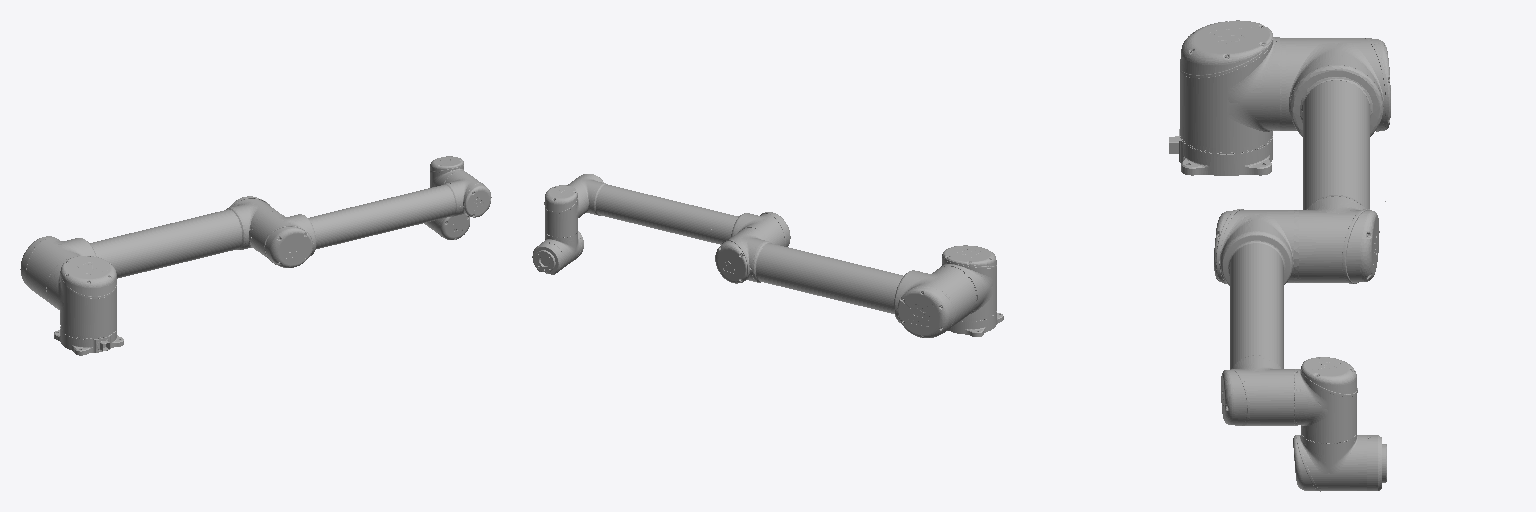
URDF robot description (ur10):
<?xml version="1.0" ?>
<!-- =================================================================================== -->
<!-- |    This document was autogenerated by xacro from /xacro/ur_description/urdf/ur10_robot.urdf.xacro | -->
<!-- |    EDITING THIS FILE BY HAND IS NOT RECOMMENDED                                 | -->
<!-- =================================================================================== -->
<robot name="ur10" xmlns:xacro="http://wiki.ros.org/xacro">
  <gazebo>
    <plugin filename="libgazebo_ros_control.so" name="ros_control">
      <!--robotNamespace>/</robotNamespace-->
      <!--robotSimType>gazebo_ros_control/DefaultRobotHWSim</robotSimType-->
    </plugin>
    <!--
    <plugin name="gazebo_ros_power_monitor_controller" filename="libgazebo_ros_power_monitor.so">
      <alwaysOn>true</alwaysOn>
      <updateRate>1.0</updateRate>
      <timeout>5</timeout>
      <powerStateTopic>power_state</powerStateTopic>
      <powerStateRate>10.0</powerStateRate>
      <fullChargeCapacity>87.78</fullChargeCapacity>     
      <dischargeRate>-474</dischargeRate>
      <chargeRate>525</chargeRate>
      <dischargeVoltage>15.52</dischargeVoltage>
      <chargeVoltage>16.41</chargeVoltage>
    </plugin>
-->
  </gazebo>
  <!--
  Author: [author]
  Contributers: [author], [author], [author]
-->
  <!-- measured from model -->
  <link name="base_link">
    <visual>
      <geometry>
        <mesh filename="package://ur_description/meshes/ur10/visual/base.obj"/>
      </geometry>
      <material name="LightGrey">
        <color rgba="0.7 0.7 0.7 1.0"/>
      </material>
    </visual>
    <collision>
      <geometry>
        <mesh filename="package://ur_description/meshes/ur10/collision/base.stl"/>
      </geometry>
    </collision>
    <inertial>
      <mass value="4.0"/>
      <origin rpy="0 0 0" xyz="0.0 0.0 0.0"/>
      <inertia ixx="0.0061063308908" ixy="0.0" ixz="0.0" iyy="0.0061063308908" iyz="0.0" izz="0.01125"/>
    </inertial>
  </link>
  <joint name="shoulder_pan_joint" type="revolute">
    <parent link="base_link"/>
    <child link="shoulder_link"/>
    <origin rpy="0.0 0.0 0.0" xyz="0.0 0.0 0.1273"/>
    <axis xyz="0 0 1"/>
    <limit effort="330.0" lower="-6.28318530718" upper="6.28318530718" velocity="2.16"/>
    <dynamics damping="0.0" friction="0.0"/>
  </joint>
  <link name="shoulder_link">
    <visual>
      <geometry>
        <mesh filename="package://ur_description/meshes/ur10/visual/shoulder.obj"/>
      </geometry>
      <material name="LightGrey">
        <color rgba="0.7 0.7 0.7 1.0"/>
      </material>
    </visual>
    <collision>
      <geometry>
        <mesh filename="package://ur_description/meshes/ur10/collision/shoulder.stl"/>
      </geometry>
    </collision>
    <inertial>
      <mass value="7.778"/>
      <origin rpy="0 0 0" xyz="0.0 0.0 0.0"/>
      <inertia ixx="0.0314743125769" ixy="0.0" ixz="0.0" iyy="0.0314743125769" iyz="0.0" izz="0.021875625"/>
    </inertial>
  </link>
  <joint name="shoulder_lift_joint" type="revolute">
    <parent link="shoulder_link"/>
    <child link="upper_arm_link"/>
    <origin rpy="0.0 1.57079632679 0.0" xyz="0.0 0.220941 0.0"/>
    <axis xyz="0 1 0"/>
    <limit effort="330.0" lower="-6.28318530718" upper="6.28318530718" velocity="2.16"/>
    <dynamics damping="0.0" friction="0.0"/>
  </joint>
  <link name="upper_arm_link">
    <visual>
      <geometry>
        <mesh filename="package://ur_description/meshes/ur10/visual/upperarm.obj"/>
      </geometry>
      <material name="LightGrey">
        <color rgba="0.7 0.7 0.7 1.0"/>
      </material>
    </visual>
    <collision>
      <geometry>
        <mesh filename="package://ur_description/meshes/ur10/collision/upperarm.stl"/>
      </geometry>
    </collision>
    <inertial>
      <mass value="12.93"/>
      <origin rpy="0 0 0" xyz="0.0 -0.045 0.306"/>
      <inertia ixx="0.421753803798" ixy="0.0" ixz="0.0" iyy="0.421753803798" iyz="0.0" izz="0.036365625"/>
    </inertial>
  </link>
  <joint name="elbow_joint" type="revolute">
    <parent link="upper_arm_link"/>
    <child link="forearm_link"/>
    <origin rpy="0.0 0.0 0.0" xyz="0.0 -0.1719 0.612"/>
    <axis xyz="0 1 0"/>
    <limit effort="150.0" lower="-3.14159265359" upper="3.14159265359" velocity="3.15"/>
    <dynamics damping="0.0" friction="0.0"/>
  </joint>
  <link name="forearm_link">
    <visual>
      <geometry>
        <mesh filename="package://ur_description/meshes/ur10/visual/forearm.obj"/>
      </geometry>
      <material name="LightGrey">
        <color rgba="0.7 0.7 0.7 1.0"/>
      </material>
    </visual>
    <collision>
      <geometry>
        <mesh filename="package://ur_description/meshes/ur10/collision/forearm.stl"/>
      </geometry>
    </collision>
    <inertial>
      <mass value="3.87"/>
      <origin rpy="0 0 0" xyz="0.0 0.0 0.28615"/>
      <inertia ixx="0.111069694097" ixy="0.0" ixz="0.0" iyy="0.111069694097" iyz="0.0" izz="0.010884375"/>
    </inertial>
  </link>
  <joint name="wrist_1_joint" type="revolute">
    <parent link="forearm_link"/>
    <child link="wrist_1_link"/>
    <origin rpy="0.0 1.57079632679 0.0" xyz="0.0 0.0 0.5723"/>
    <axis xyz="0 1 0"/>
    <limit effort="54.0" lower="-6.28318530718" upper="6.28318530718" velocity="3.2"/>
    <dynamics damping="0.0" friction="0.0"/>
  </joint>
  <link name="wrist_1_link">
    <visual>
      <geometry>
        <mesh filename="package://ur_description/meshes/ur10/visual/wrist1.obj"/>
      </geometry>
      <material name="LightGrey">
        <color rgba="0.7 0.7 0.7 1.0"/>
      </material>
    </visual>
    <collision>
      <geometry>
        <mesh filename="package://ur_description/meshes/ur10/collision/wrist1.stl"/>
      </geometry>
    </collision>
    <inertial>
      <mass value="1.96"/>
      <origin rpy="0 0 0" xyz="0.0 0.1149 0.0"/>
      <inertia ixx="0.0051082479567" ixy="0.0" ixz="0.0" iyy="0.0051082479567" iyz="0.0" izz="0.0055125"/>
    </inertial>
  </link>
  <joint name="wrist_2_joint" type="revolute">
    <parent link="wrist_1_link"/>
    <child link="wrist_2_link"/>
    <origin rpy="0.0 0.0 0.0" xyz="0.0 0.1149 0.0"/>
    <axis xyz="0 0 1"/>
    <limit effort="54.0" lower="-6.28318530718" upper="6.28318530718" velocity="3.2"/>
    <dynamics damping="0.0" friction="0.0"/>
  </joint>
  <link name="wrist_2_link">
    <visual>
      <geometry>
        <mesh filename="package://ur_description/meshes/ur10/visual/wrist2.obj"/>
      </geometry>
      <material name="LightGrey">
        <color rgba="0.7 0.7 0.7 1.0"/>
      </material>
    </visual>
    <collision>
      <geometry>
        <mesh filename="package://ur_description/meshes/ur10/collision/wrist2.stl"/>
      </geometry>
    </collision>
    <inertial>
      <mass value="1.96"/>
      <origin rpy="0 0 0" xyz="0.0 0.0 0.1157"/>
      <inertia ixx="0.0051082479567" ixy="0.0" ixz="0.0" iyy="0.0051082479567" iyz="0.0" izz="0.0055125"/>
    </inertial>
  </link>
  <joint name="wrist_3_joint" type="revolute">
    <parent link="wrist_2_link"/>
    <child link="wrist_3_link"/>
    <origin rpy="0.0 0.0 0.0" xyz="0.0 0.0 0.1157"/>
    <axis xyz="0 1 0"/>
    <limit effort="54.0" lower="-6.28318530718" upper="6.28318530718" velocity="3.2"/>
    <dynamics damping="0.0" friction="0.0"/>
  </joint>
  <link name="wrist_3_link">
    <visual>
      <geometry>
        <mesh filename="package://ur_description/meshes/ur10/visual/wrist3.obj"/>
      </geometry>
      <material name="LightGrey">
        <color rgba="0.7 0.7 0.7 1.0"/>
      </material>
    </visual>
    <collision>
      <geometry>
        <mesh filename="package://ur_description/meshes/ur10/collision/wrist3.stl"/>
      </geometry>
    </collision>
    <inertial>
      <mass value="0.202"/>
      <origin rpy="1.57079632679 0 0" xyz="0.0 0.07695 0.0"/>
      <inertia ixx="0.000117921661165" ixy="0.0" ixz="0.0" iyy="0.000117921661165" iyz="0.0" izz="0.000204525"/>
    </inertial>
  </link>
  <joint name="ee_fixed_joint" type="fixed">
    <parent link="wrist_3_link"/>
    <child link="ee_link"/>
    <origin rpy="0.0 0.0 1.57079632679" xyz="0.0 0.0922 0.0"/>
  </joint>
  <link name="ee_link">
    <collision>
      <geometry>
        <box size="0.01 0.01 0.01"/>
      </geometry>
      <origin rpy="0 0 0" xyz="-0.01 0 0"/>
    </collision>
  </link>
  <transmission name="shoulder_pan_trans">
    <type>transmission_interface/SimpleTransmission</type>
    <joint name="shoulder_pan_joint">
      <hardwareInterface>hardware_interface/PositionJointInterface</hardwareInterface>
    </joint>
    <actuator name="shoulder_pan_motor">
      <mechanicalReduction>1</mechanicalReduction>
    </actuator>
  </transmission>
  <transmission name="shoulder_lift_trans">
    <type>transmission_interface/SimpleTransmission</type>
    <joint name="shoulder_lift_joint">
      <hardwareInterface>hardware_interface/PositionJointInterface</hardwareInterface>
    </joint>
    <actuator name="shoulder_lift_motor">
      <mechanicalReduction>1</mechanicalReduction>
    </actuator>
  </transmission>
  <transmission name="elbow_trans">
    <type>transmission_interface/SimpleTransmission</type>
    <joint name="elbow_joint">
      <hardwareInterface>hardware_interface/PositionJointInterface</hardwareInterface>
    </joint>
    <actuator name="elbow_motor">
      <mechanicalReduction>1</mechanicalReduction>
    </actuator>
  </transmission>
  <transmission name="wrist_1_trans">
    <type>transmission_interface/SimpleTransmission</type>
    <joint name="wrist_1_joint">
      <hardwareInterface>hardware_interface/PositionJointInterface</hardwareInterface>
    </joint>
    <actuator name="wrist_1_motor">
      <mechanicalReduction>1</mechanicalReduction>
    </actuator>
  </transmission>
  <transmission name="wrist_2_trans">
    <type>transmission_interface/SimpleTransmission</type>
    <joint name="wrist_2_joint">
      <hardwareInterface>hardware_interface/PositionJointInterface</hardwareInterface>
    </joint>
    <actuator name="wrist_2_motor">
      <mechanicalReduction>1</mechanicalReduction>
    </actuator>
  </transmission>
  <transmission name="wrist_3_trans">
    <type>transmission_interface/SimpleTransmission</type>
    <joint name="wrist_3_joint">
      <hardwareInterface>hardware_interface/PositionJointInterface</hardwareInterface>
    </joint>
    <actuator name="wrist_3_motor">
      <mechanicalReduction>1</mechanicalReduction>
    </actuator>
  </transmission>
  <gazebo reference="shoulder_link">
    <selfCollide>true</selfCollide>
  </gazebo>
  <gazebo reference="upper_arm_link">
    <selfCollide>true</selfCollide>
  </gazebo>
  <gazebo reference="forearm_link">
    <selfCollide>true</selfCollide>
  </gazebo>
  <gazebo reference="wrist_1_link">
    <selfCollide>true</selfCollide>
  </gazebo>
  <gazebo reference="wrist_3_link">
    <selfCollide>true</selfCollide>
  </gazebo>
  <gazebo reference="wrist_2_link">
    <selfCollide>true</selfCollide>
  </gazebo>
  <gazebo reference="ee_link">
    <selfCollide>true</selfCollide>
  </gazebo>
  <!-- ROS base_link to UR 'Base' Coordinates transform -->
  <link name="base"/>
  <joint name="base_link-base_fixed_joint" type="fixed">
    <!-- NOTE: this rotation is only needed as long as base_link itself is
                 not corrected wrt the real robot (ie: rotated over 180
                 degrees)
      -->
    <origin rpy="0 0 -3.14159265359" xyz="0 0 0"/>
    <parent link="base_link"/>
    <child link="base"/>
  </joint>
  <!-- Frame coincident with all-zeros TCP on UR controller -->
  <link name="tool0"/>
  <joint name="wrist_3_link-tool0_fixed_joint" type="fixed">
    <origin rpy="-1.57079632679 0 0" xyz="0 0.0922 0"/>
    <parent link="wrist_3_link"/>
    <child link="tool0"/>
  </joint>
  <link name="world"/>
  <joint name="world_joint" type="fixed">
    <parent link="world"/>
    <child link="base_link"/>
    <origin rpy="0.0 0.0 0.0" xyz="0.0 0.0 0.0"/>
  </joint>
</robot>

--- Facts derived from the render (not from the file) ---
The picture shows the robot from 3 angles, left to right: view 1: azimuth 30°, elevation 25°; view 2: azimuth 150°, elevation 25°; view 3: azimuth 270°, elevation 25°; orthographic projection.
Model ur10 with 11 links and 10 joints (6 revolute, 4 fixed), rooted at world, posed every joint at zero.
Visible links, largest first — view 1: upper_arm_link, forearm_link, shoulder_link, base_link, wrist_2_link, wrist_1_link; view 2: upper_arm_link, forearm_link, shoulder_link, wrist_1_link, wrist_3_link, wrist_2_link, base_link; view 3: upper_arm_link, forearm_link, shoulder_link, wrist_1_link, wrist_2_link, base_link, wrist_3_link.
Link boxes in pixels (<box>): upper_arm_link: <box>20,196,278,304</box>; forearm_link: <box>249,171,491,267</box>; shoulder_link: <box>48,256,116,339</box>; base_link: <box>54,328,123,355</box>; wrist_2_link: <box>424,214,469,239</box>; wrist_1_link: <box>430,156,463,187</box>; upper_arm_link: <box>711,229,976,337</box>; forearm_link: <box>567,174,790,246</box>; shoulder_link: <box>940,245,996,321</box>; wrist_1_link: <box>544,185,585,237</box>; wrist_3_link: <box>532,242,563,274</box>; wrist_2_link: <box>542,231,583,269</box>; base_link: <box>948,313,1003,336</box>; upper_arm_link: <box>1280,38,1390,283</box>; forearm_link: <box>1214,209,1298,425</box>; shoulder_link: <box>1180,20,1279,154</box>; wrist_1_link: <box>1295,357,1357,443</box>; wrist_2_link: <box>1293,435,1366,491</box>; base_link: <box>1169,129,1272,175</box>; wrist_3_link: <box>1367,435,1386,490</box>.
Bounding box of the posed robot: 1.31 × 0.3551 × 0.2635 m (x, y, z).
Meshes: 7 distinct files referenced, 7 mesh visuals loaded (7 OBJ).